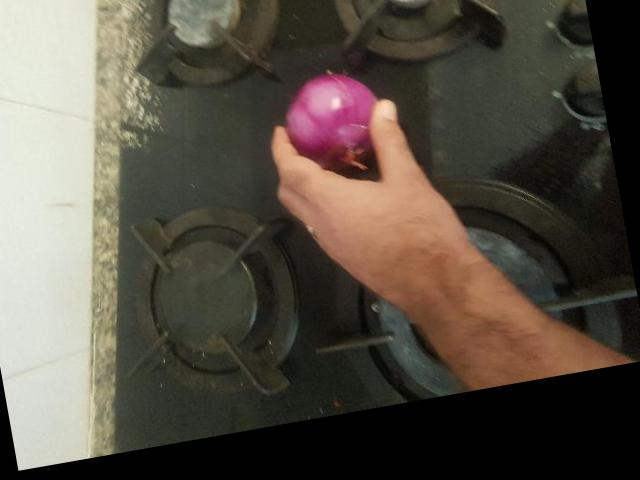onion: (82, 16, 195, 129)
